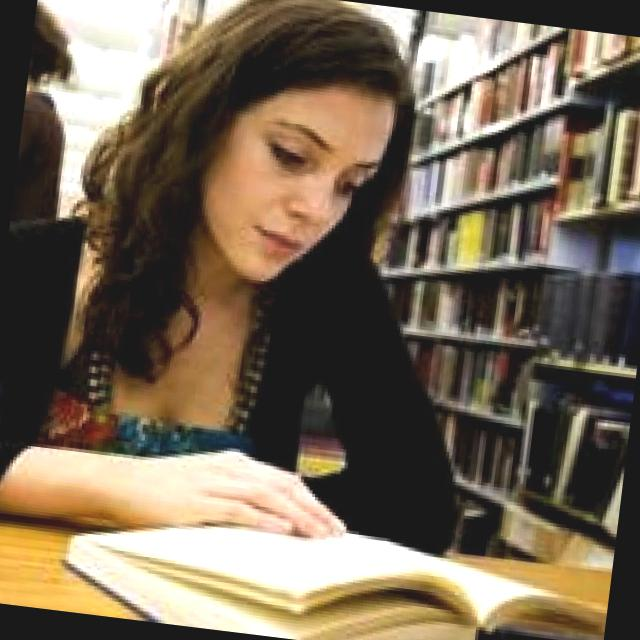no_vest: (0, 192, 373, 474)
